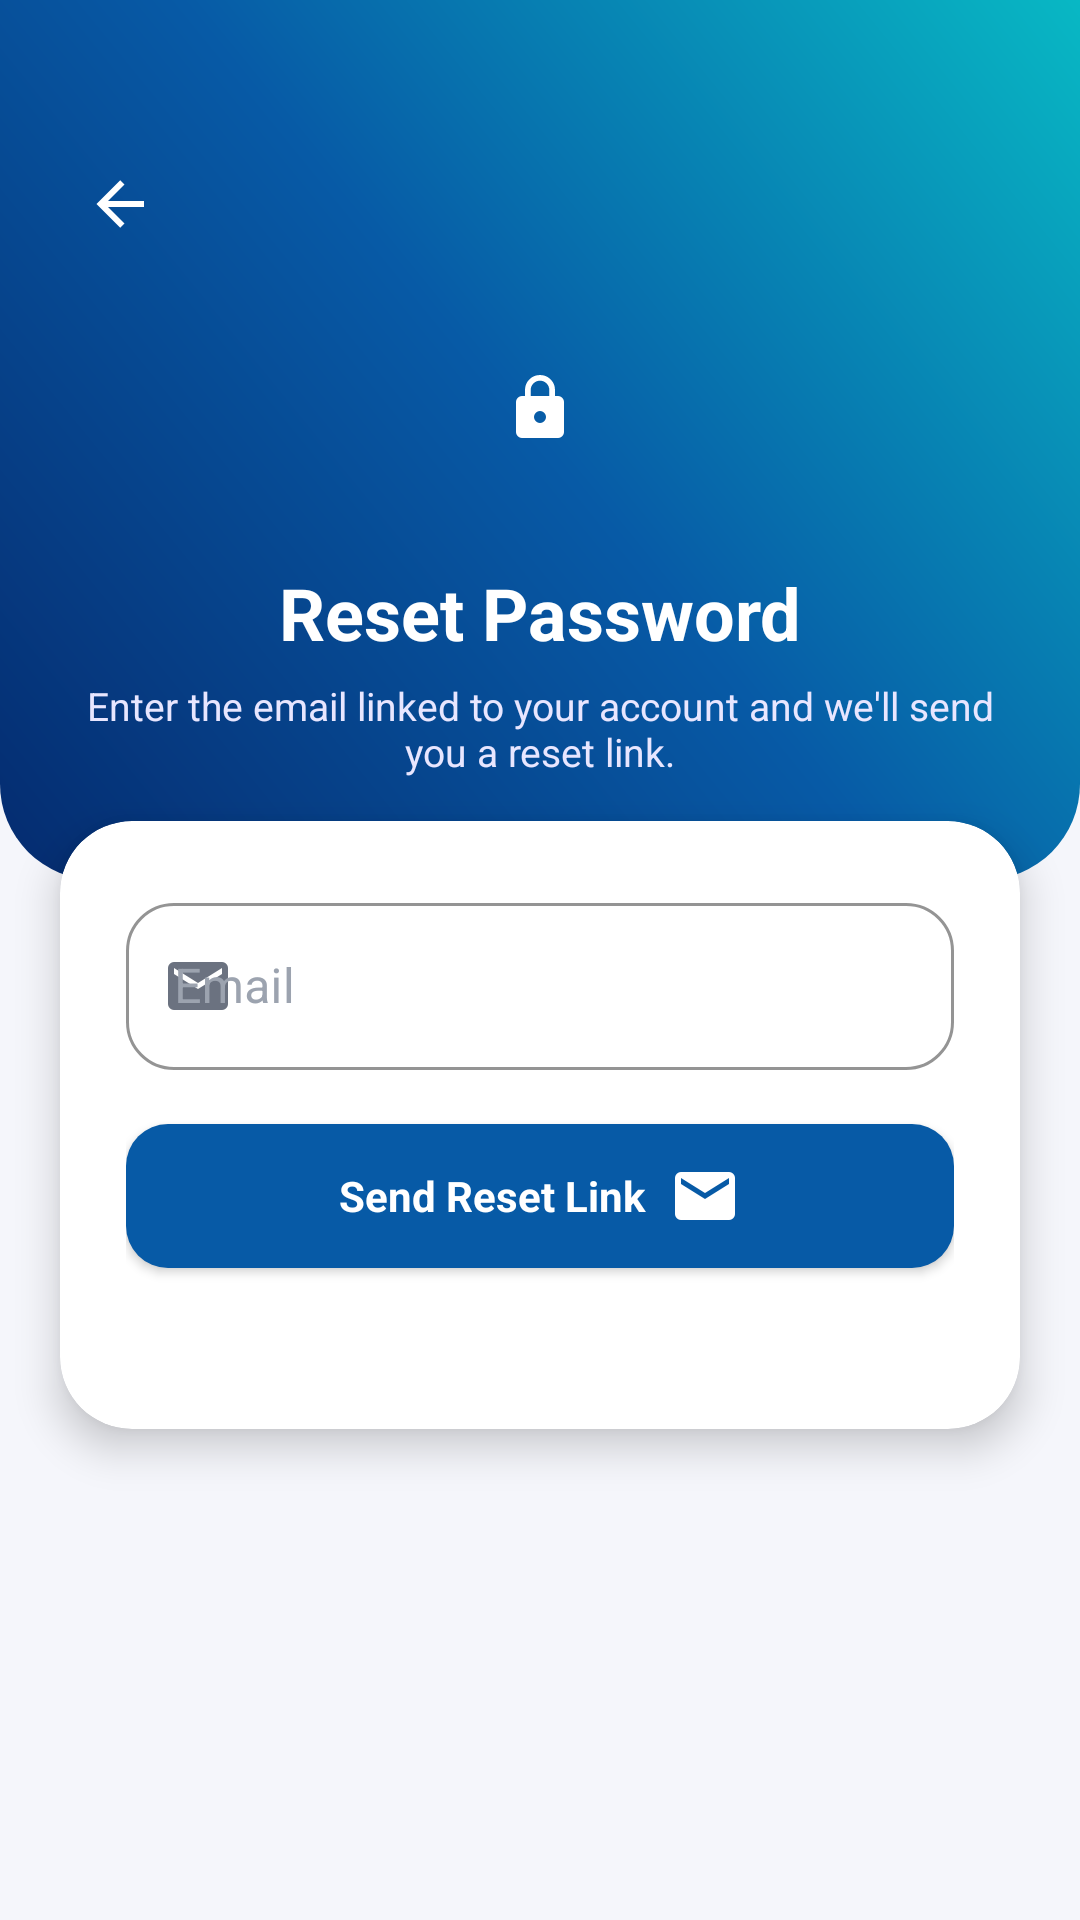

Locate icon controls on the screen. Image size 1080*1920, boxes as (x1, y1, x2, y2).
Back: (96, 180, 144, 228)
